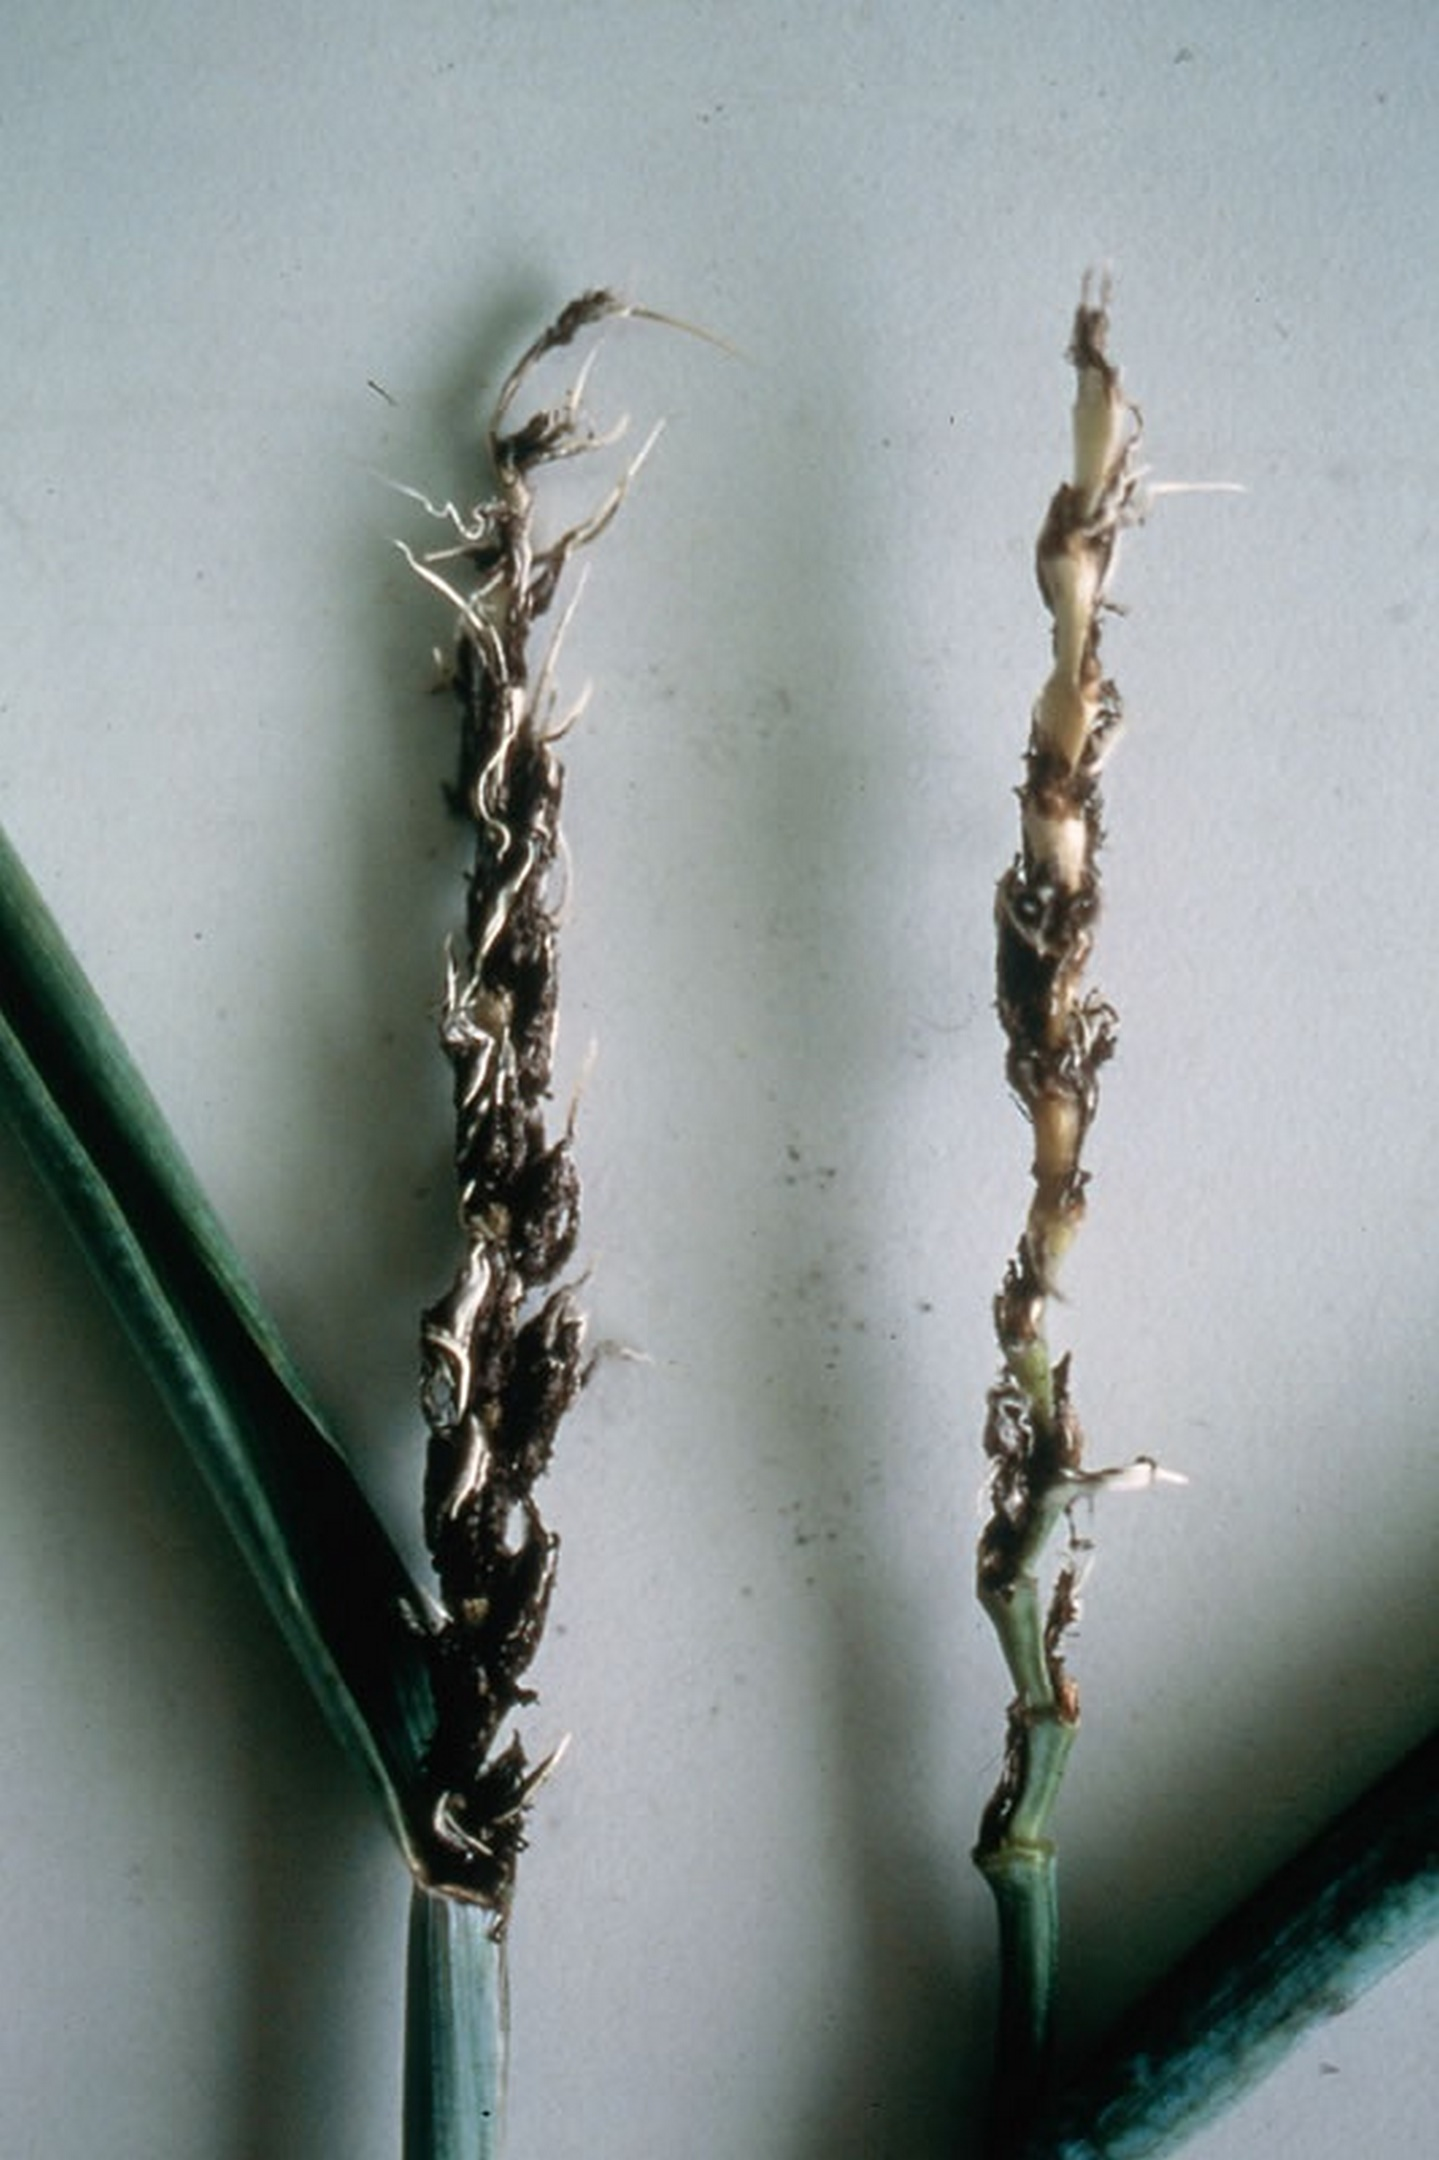Wheat Loose Smut: (313, 268, 699, 1812)
